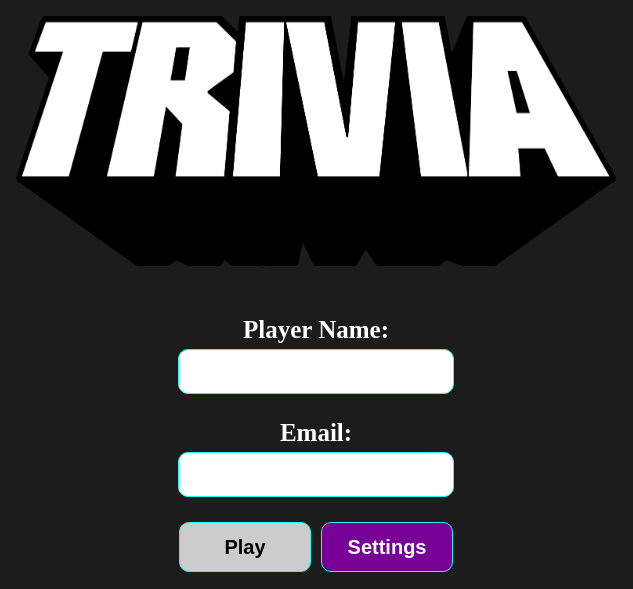
Test: Testa a página de Login › Testa se o botão habilita ao preencher os inputs.
This screenshot has width=633, height=589.
Step 1. Type "sdas" into the field with test id "input-player-name" → (316, 372), box [178, 349, 454, 394]
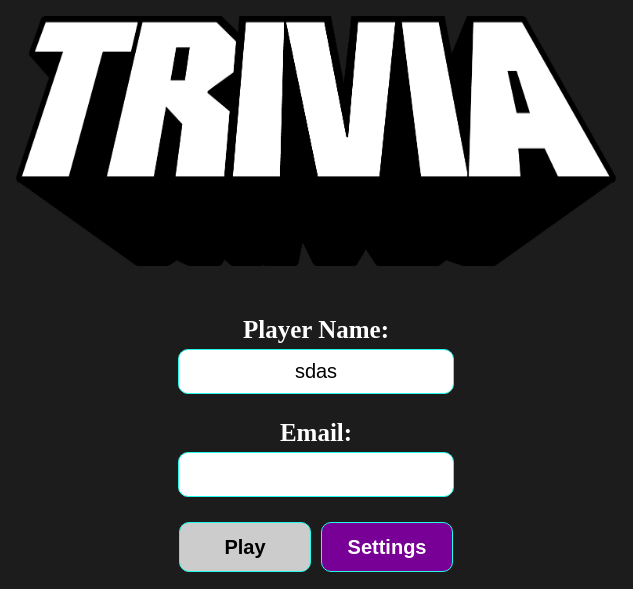
Step 2. Type "teste@test.com" into the field with test id "input-gravatar-email" → (316, 474), box [178, 452, 454, 497]
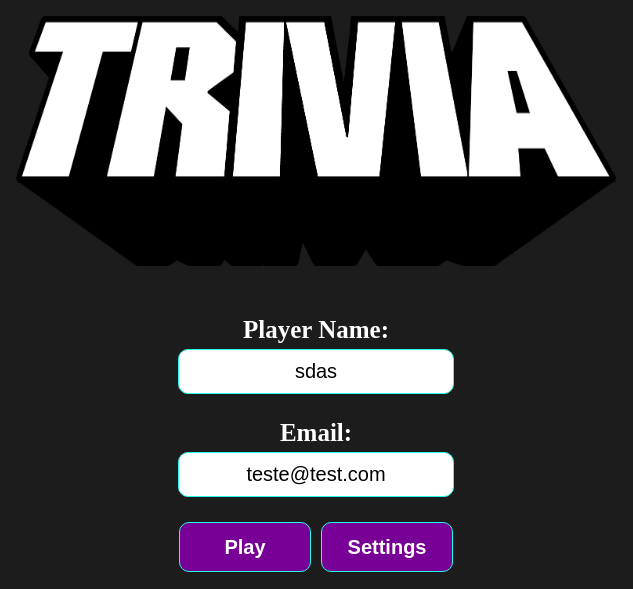
Result: the button with test id "btn-play" is enabled at [179, 522, 310, 572]
